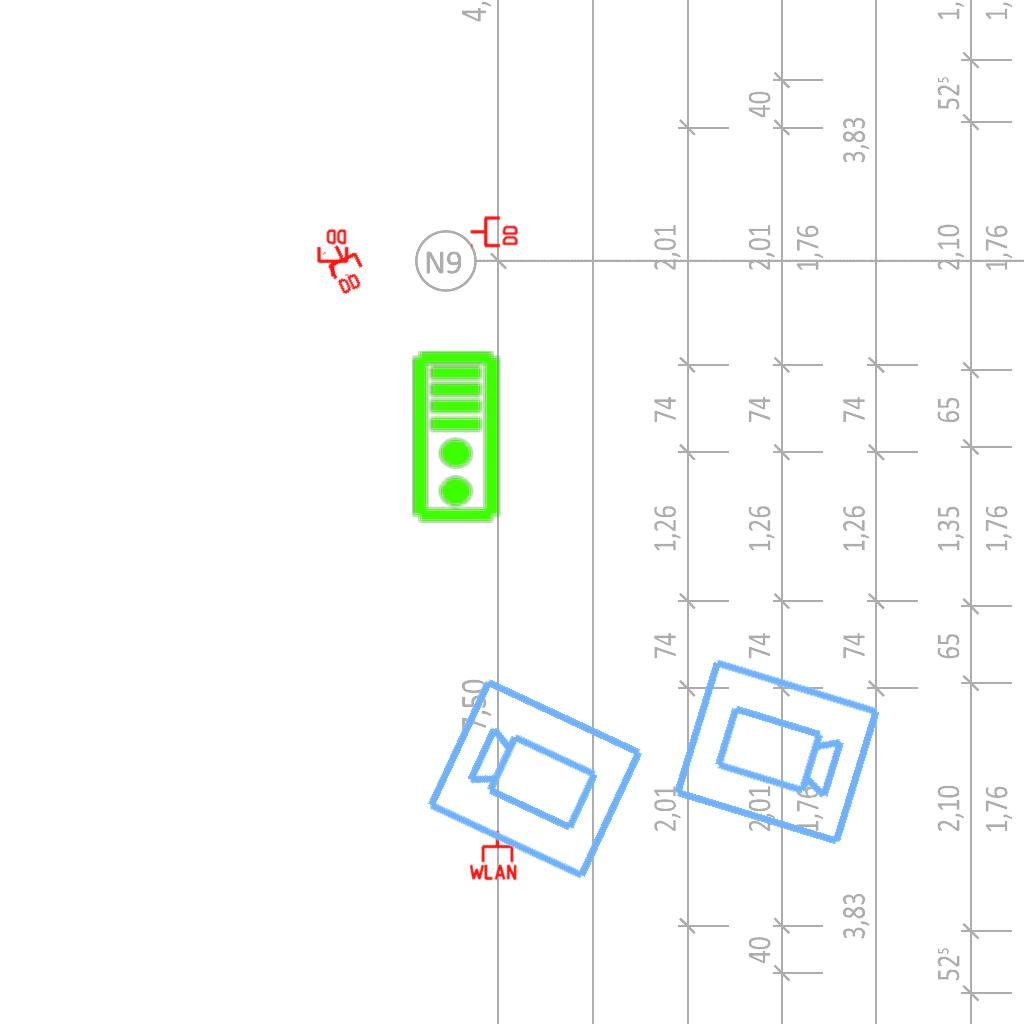Datenanschluss_zweifach: (320, 237, 374, 298), (469, 214, 520, 248), (315, 227, 349, 278)
Gegensprechanlage_mit_Video: (410, 349, 505, 525)
KFO_Kamera_mit_Festobjektiv: (420, 669, 652, 887), (666, 652, 886, 854)
WLAN: (467, 829, 519, 881)
